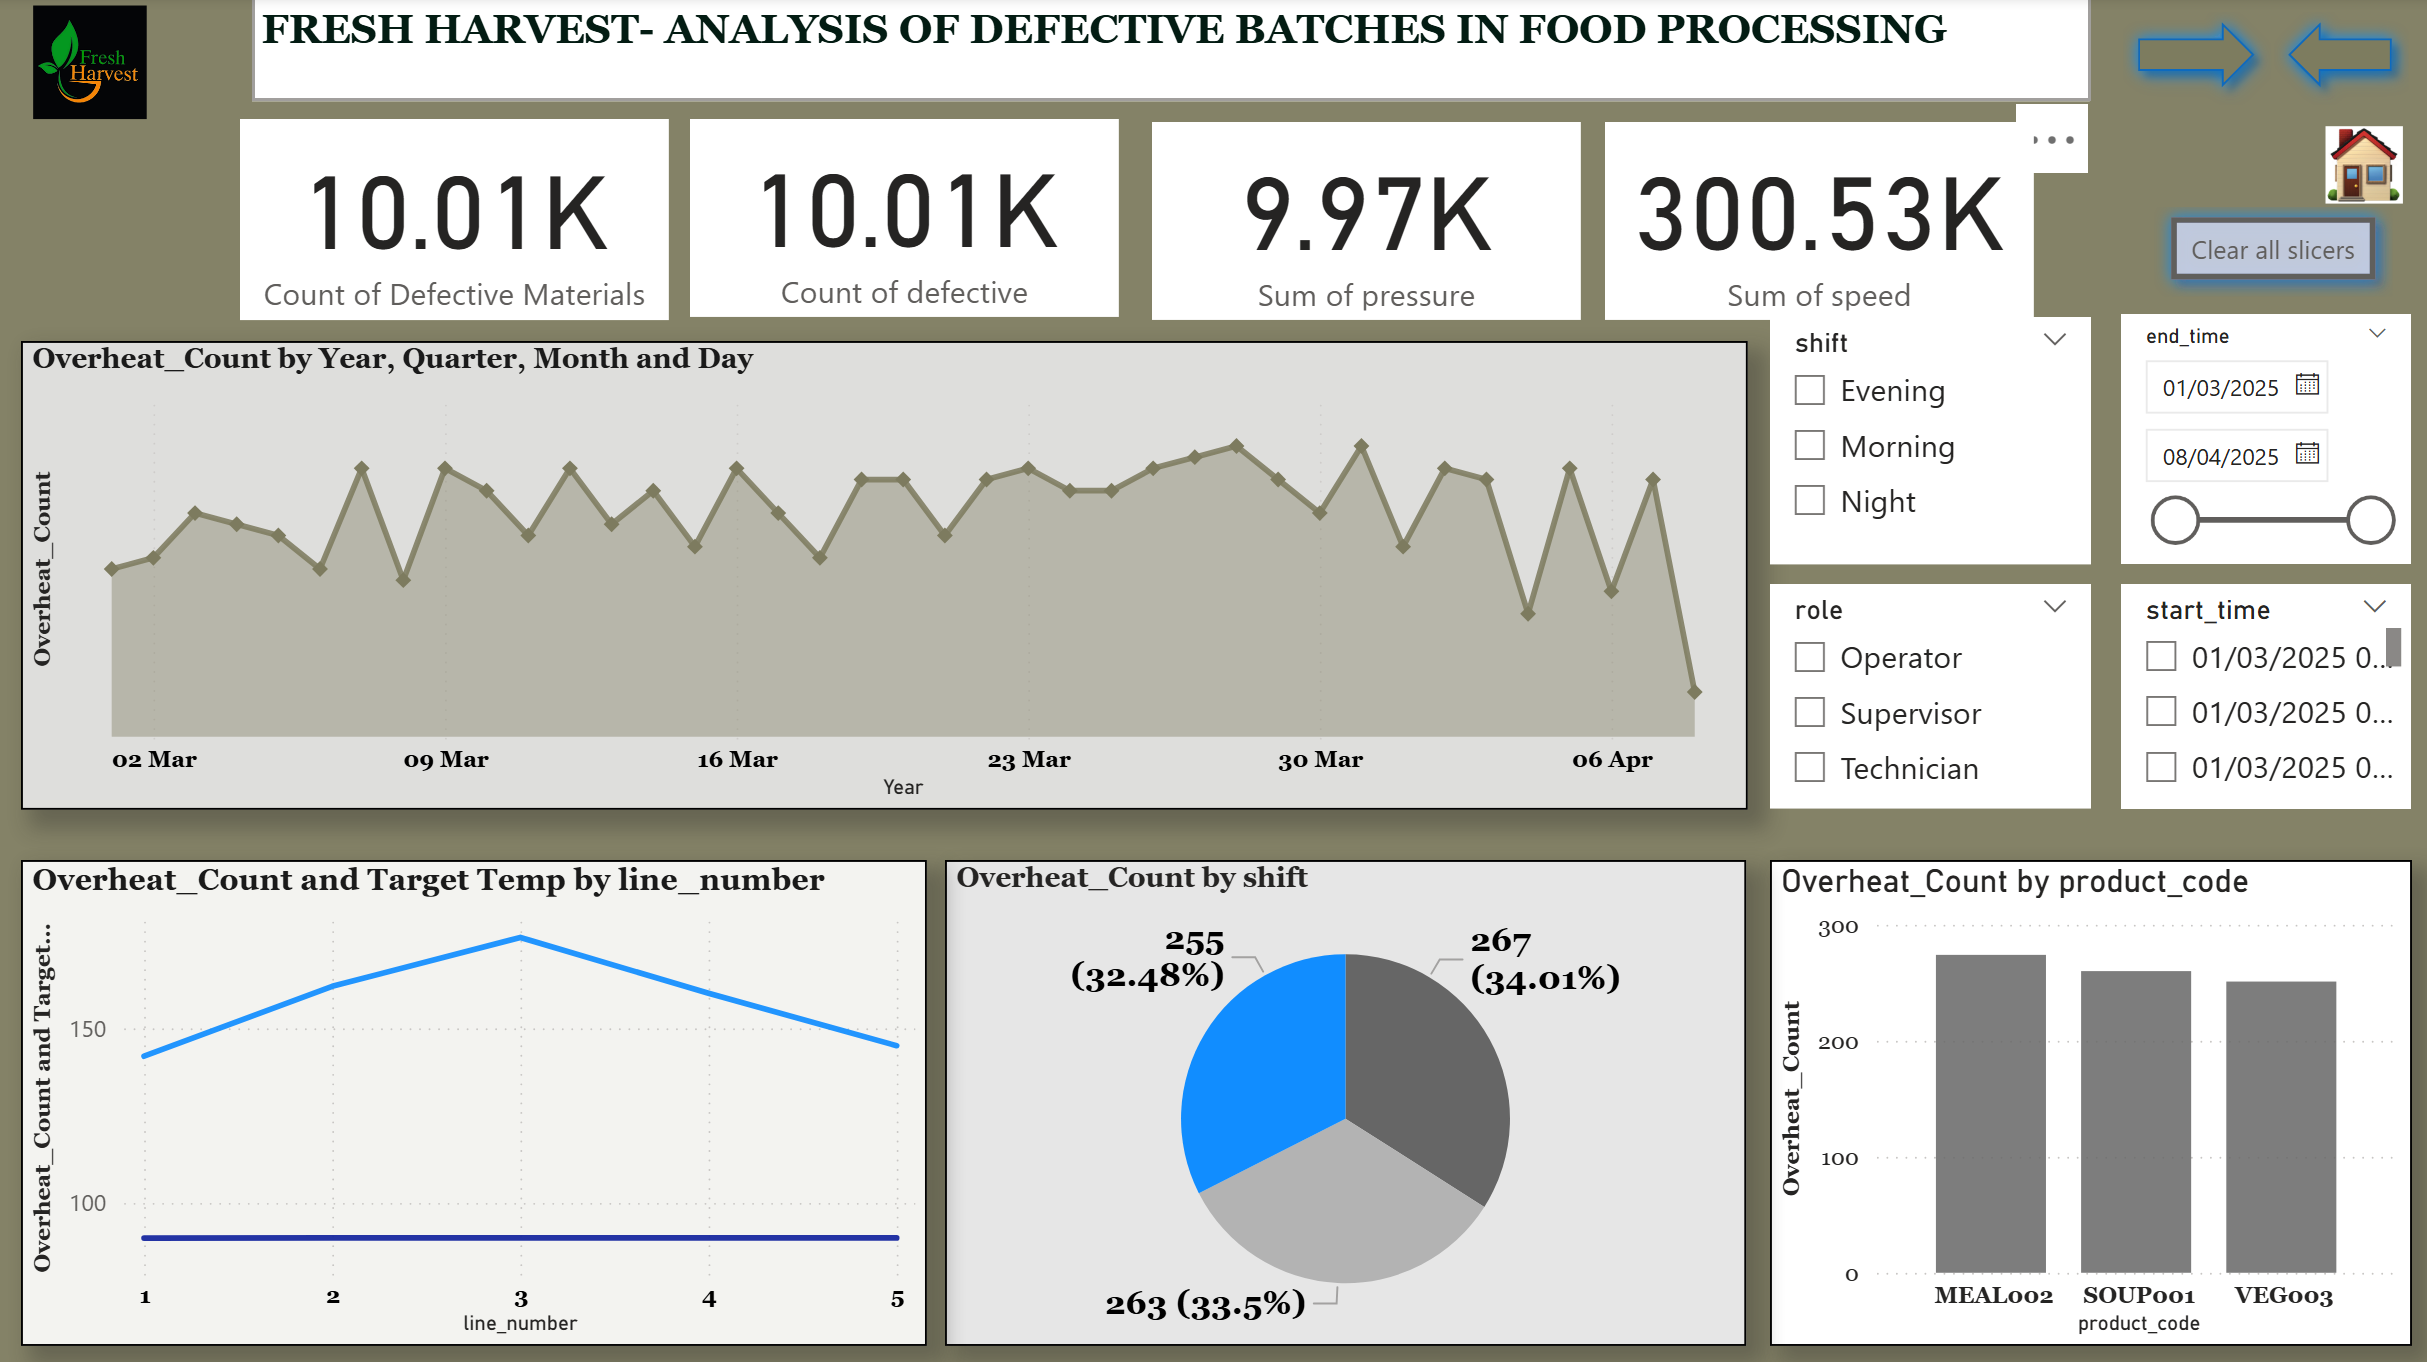

Layout of this report page (visuals, bound fields, positions):
{"tool":"powerbi","page":{"name":"Shift","canvas":[1280,720],"ordinal":3},"visuals":[{"type":"textbox","box":[134.3,0,965.7,55.2],"z":0},{"type":"slicer","fields":{"Values":["Batch_Production.shift"]},"box":[931.3,168.7,168.7,129.9],"z":0,"group":"g1"},{"type":"image","box":[0,0,97.7,69.8],"z":1000},{"type":"slicer","fields":{"Values":["Employee_Shift.role"]},"box":[931.3,309,168.7,117.9],"z":1000,"group":"g1"},{"type":"shape","box":[1195.7,4.3,72.5,52.2],"z":2000},{"type":"slicer","fields":{"Values":["Batch_Production.end_time"]},"box":[1116.4,167.2,152.2,131.3],"z":2000,"group":"g1"},{"type":"slicer","fields":{"Values":["Batch_Production.start_time"]},"box":[1116.4,309,152.2,117.9],"z":3000,"group":"g1"},{"type":"clusteredColumnChart","fields":{"Category":["Batch_Production.product_code"],"Y":["Batch_Production.Overheat_Count"]},"box":[931.3,453.7,337.3,255.2],"z":3000},{"type":"areaChart","fields":{"Category":["Batch_Production.end_time.Variation.Date Hierarchy.Year","Batch_Production.end_time.Variation.Date Hierarchy.Quarter","Batch_Production.end_time.Variation.Date Hierarchy.Month","Batch_Production.end_time.Variation.Date Hierarchy.Day"],"Y":["Batch_Production.Overheat_Count"]},"box":[11.9,180.6,907.5,246.3],"z":4000},{"type":"pieChart","fields":{"Category":["Batch_Production.shift"],"Y":["Batch_Production.Overheat_Count"]},"box":[498.5,453.7,420.9,255.2],"z":5000},{"type":"lineChart","fields":{"Y":["Batch_Production.Overheat_Count","Machine_Reading.Target Temp"],"Category":["Machine_Reading.line_number Hierarchy.line_number"]},"box":[11.9,453.7,476.1,255.2],"z":6000},{"type":"shape","box":[1116.4,4.5,79.1,52.2],"z":7000},{"type":"group","id":"g1","title":"Group 1","box":[931.3,167.2,337.3,259.7],"z":8000},{"type":"card","fields":{"Values":["Raw_Material_Info.Count of Defective Materials"]},"box":[127.7,64.6,225.4,105.6],"z":9000},{"type":"card","fields":{"Values":["CountNonNull(Raw_Material_Info.defective)"]},"box":[364.1,64.6,225.4,104],"z":10000},{"type":"card","fields":{"Values":["Sum(Machine_Reading.pressure)"]},"box":[606.9,66.2,225.4,104],"z":11000},{"type":"card","fields":{"Values":["Sum(Machine_Reading.speed)"]},"box":[844.9,66.2,225.4,104],"z":12000},{"type":"actionButton","box":[1132.8,107.5,125.4,50.7],"z":13000},{"type":"bookmarkNavigator","box":[85.1,117.9,85.1,50.7],"z":14000},{"type":"image","box":[1217.9,56.7,50.7,64.2],"z":15000}]}

Visuals, with their boxes in screenshot pixels (x1, y1, x2, y2), scaled from the page's 1280x720 canvas onto the 2427x1362 screenshot:
textbox: x1=255, y1=0, x2=2086, y2=104
slicer - Batch_Production.shift: x1=1766, y1=319, x2=2086, y2=565
image: x1=0, y1=0, x2=185, y2=132
slicer - Employee_Shift.role: x1=1766, y1=585, x2=2086, y2=808
shape: x1=2267, y1=8, x2=2405, y2=107
slicer - Batch_Production.end_time: x1=2117, y1=316, x2=2405, y2=565
slicer - Batch_Production.start_time: x1=2117, y1=585, x2=2405, y2=808
clusteredColumnChart - Batch_Production.product_code x Batch_Production.Overheat_Count: x1=1766, y1=858, x2=2405, y2=1341
areaChart - Batch_Production.end_time.Variation.Date Hierarchy.Year x Batch_Production.end_time.Variation.Date Hierarchy.Quarter: x1=23, y1=342, x2=1743, y2=808
pieChart - Batch_Production.shift x Batch_Production.Overheat_Count: x1=945, y1=858, x2=1743, y2=1341
lineChart - Batch_Production.Overheat_Count x Machine_Reading.Target Temp: x1=23, y1=858, x2=925, y2=1341
shape: x1=2117, y1=9, x2=2267, y2=107
"Group 1" group: x1=1766, y1=316, x2=2405, y2=808
card - Raw_Material_Info.Count of Defective Materials: x1=242, y1=122, x2=670, y2=322
card - CountNonNull(Raw_Material_Info.defective): x1=690, y1=122, x2=1118, y2=319
card - Sum(Machine_Reading.pressure): x1=1151, y1=125, x2=1578, y2=322
card - Sum(Machine_Reading.speed): x1=1602, y1=125, x2=2029, y2=322
actionButton: x1=2148, y1=203, x2=2386, y2=299
bookmarkNavigator: x1=161, y1=223, x2=323, y2=319
image: x1=2309, y1=107, x2=2405, y2=229
